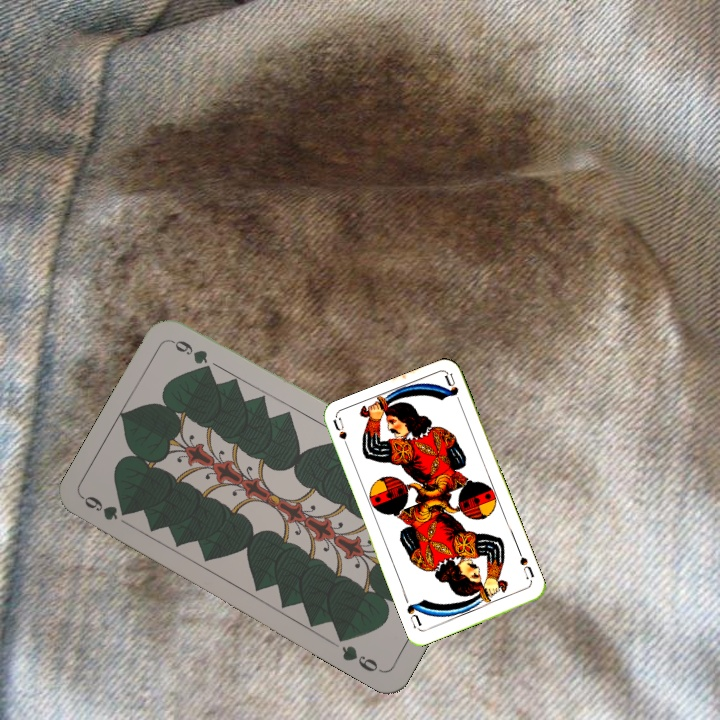G9: (80, 491, 132, 523)
SU: (329, 415, 353, 455), (514, 547, 537, 582)
